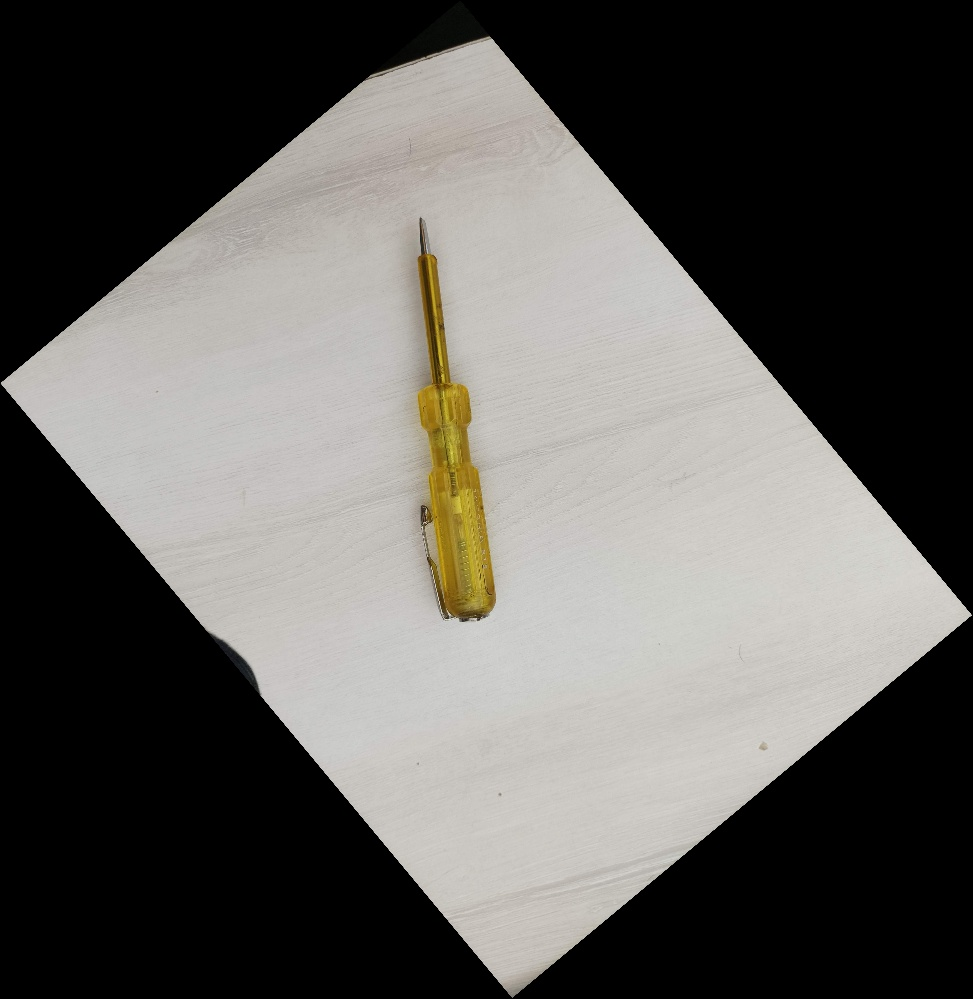screwdriver: (408, 210, 501, 627)
